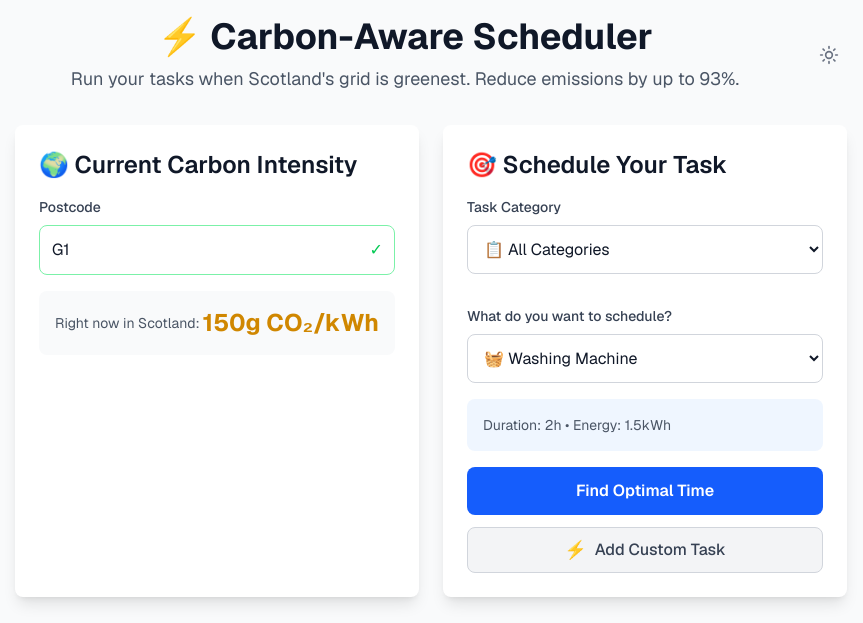
Test: Home Page › Postcode Input › should validate UK postcodes
Valid postcode
Replace the text in the field labelled "Postcode" with "G1 1AA" at x=217, y=250, box left=39, top=225, right=395, bottom=275
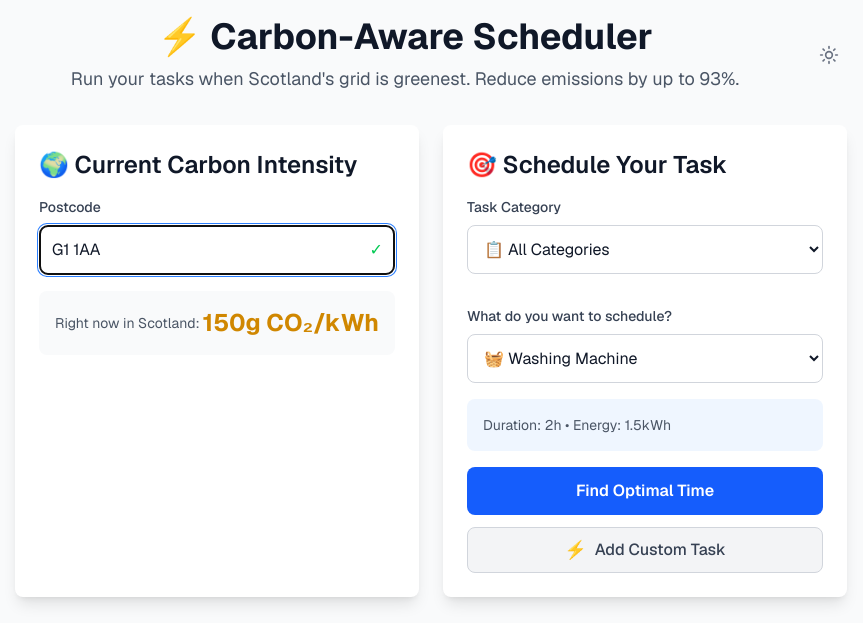
Expected: the text "✓" is shown, left=370, top=238, right=383, bottom=262
Invalid postcode
Replace the text in the field labelled "Postcode" with "INVALID" at x=217, y=250, box left=39, top=225, right=395, bottom=275
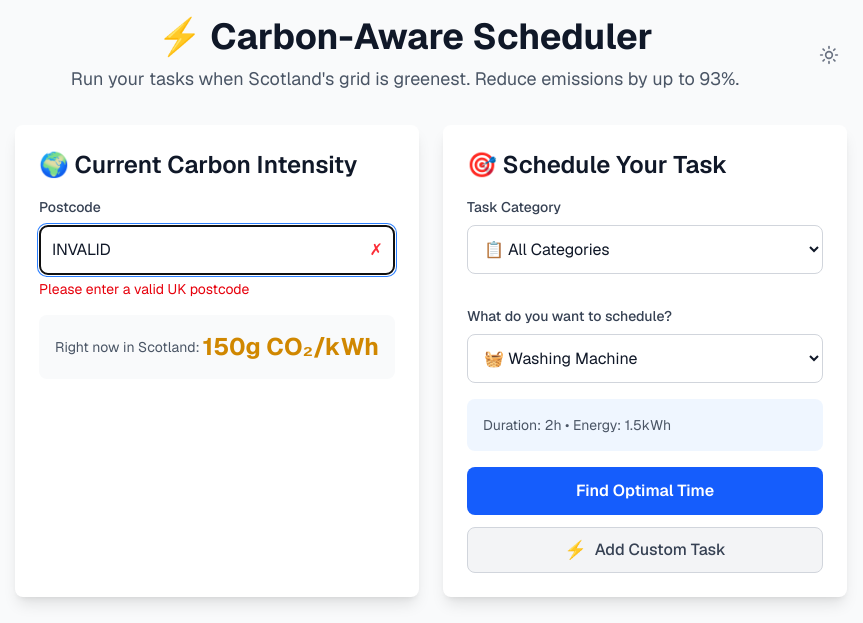
Result: the text "✗" is shown at left=370, top=238, right=383, bottom=262
Result: the text "Please enter a valid UK postcode" is shown at left=39, top=280, right=249, bottom=298
